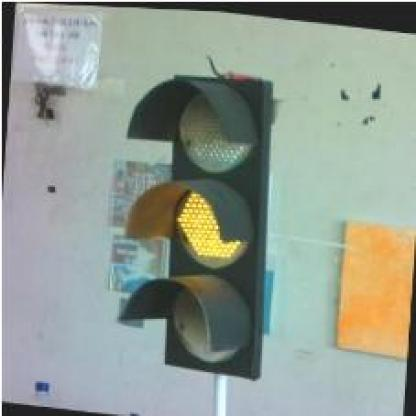yellow: (109, 66, 280, 377)
